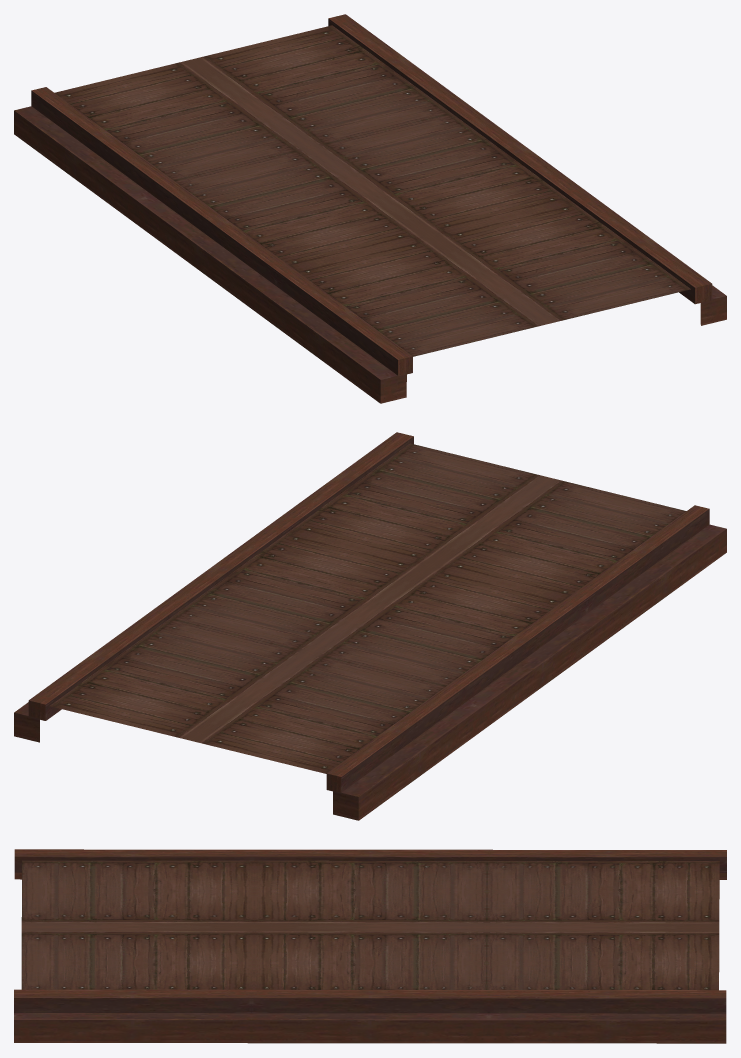
3 renders of one model, top to bottom at view 1: azimuth 30°, elevation 25°; view 2: azimuth 150°, elevation 25°; view 3: azimuth 270°, elevation 25°, orthographic. The views are drawn at different scales.
Visible parts, largest first — view 1: polySurface530; view 2: polySurface530; view 3: polySurface530.
Part boxes in pixels (x1,y1,x2,y2): polySurface530: (14,14,726,403); polySurface530: (14,432,726,820); polySurface530: (14,849,726,1043).
Size of the model in its own units: 26.56 by 2.89 by 48.78.
